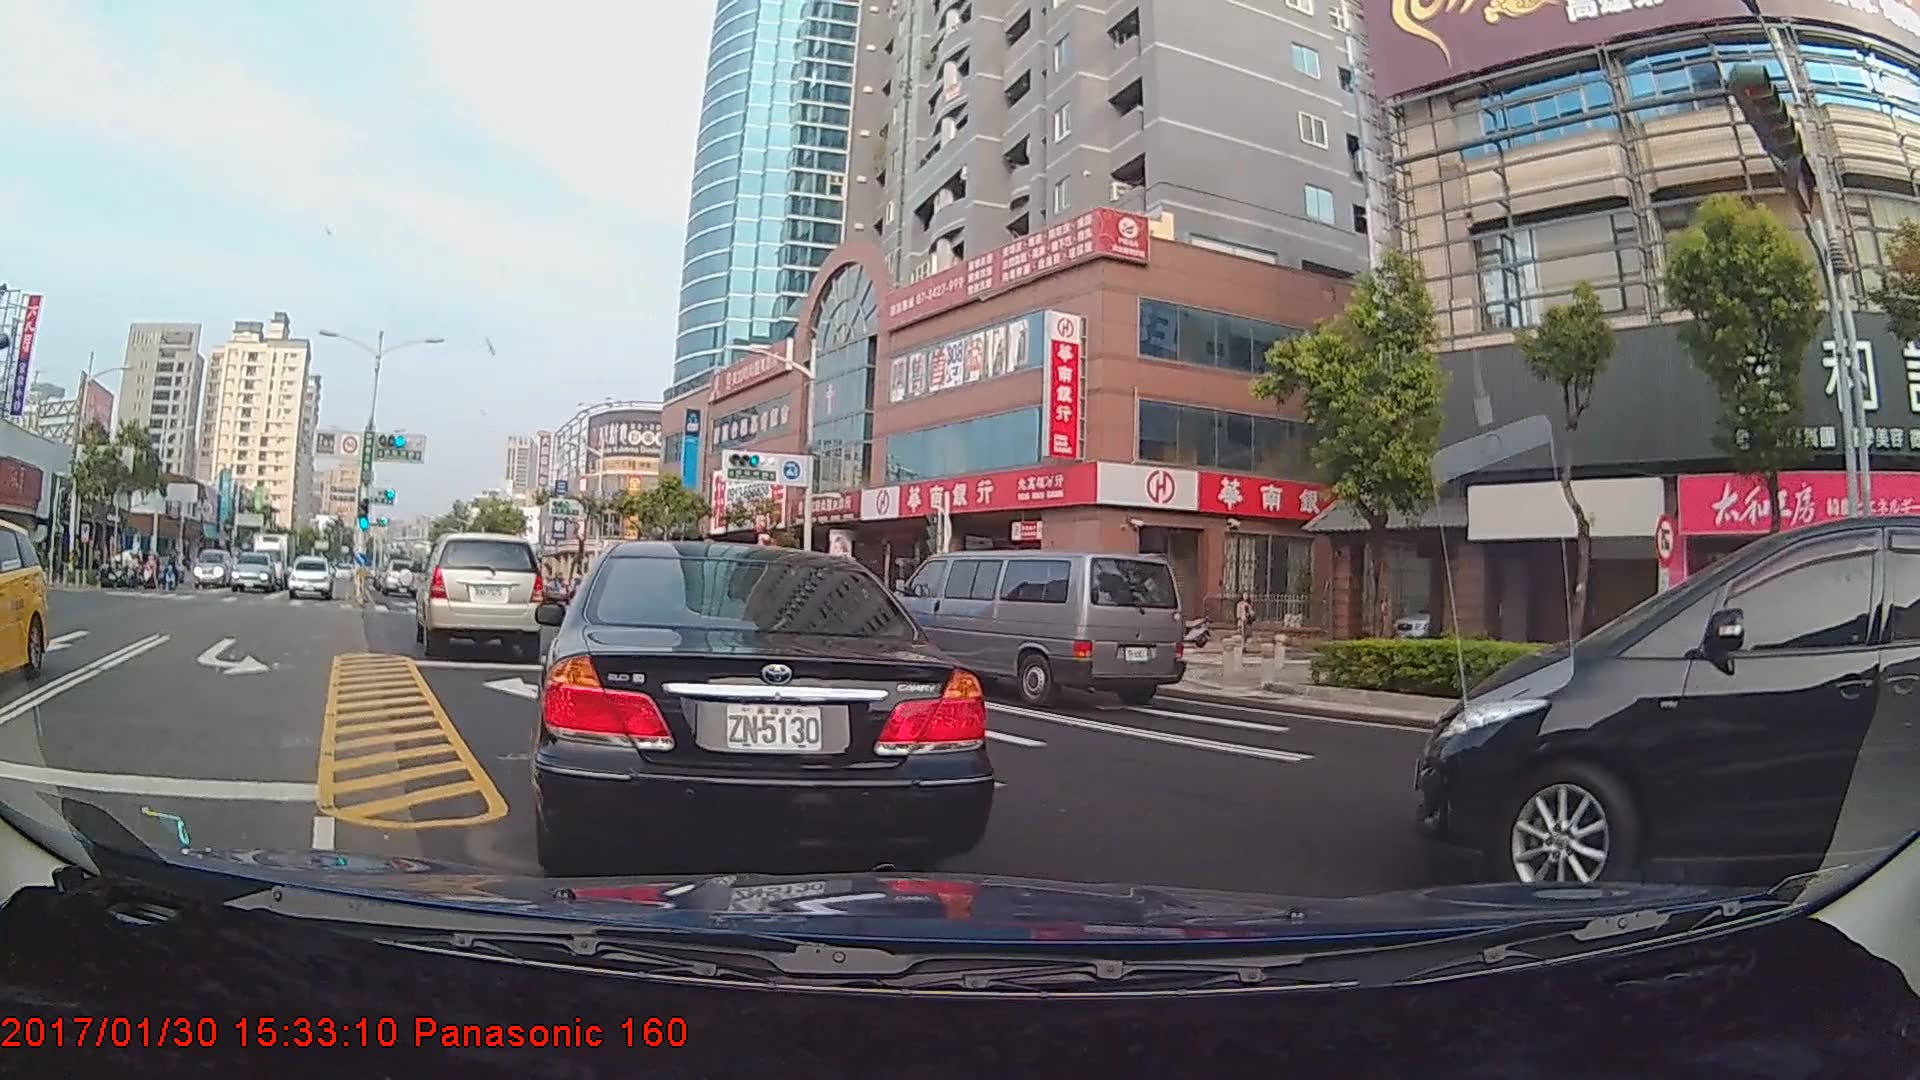pedestrian: (1233, 593, 1258, 653)
vehicle: (1394, 478, 1902, 899), (534, 535, 985, 877), (882, 549, 1186, 712), (416, 533, 553, 656), (0, 512, 48, 683), (247, 527, 299, 584), (287, 553, 335, 600), (231, 551, 278, 594), (193, 548, 235, 589), (377, 555, 417, 595)
